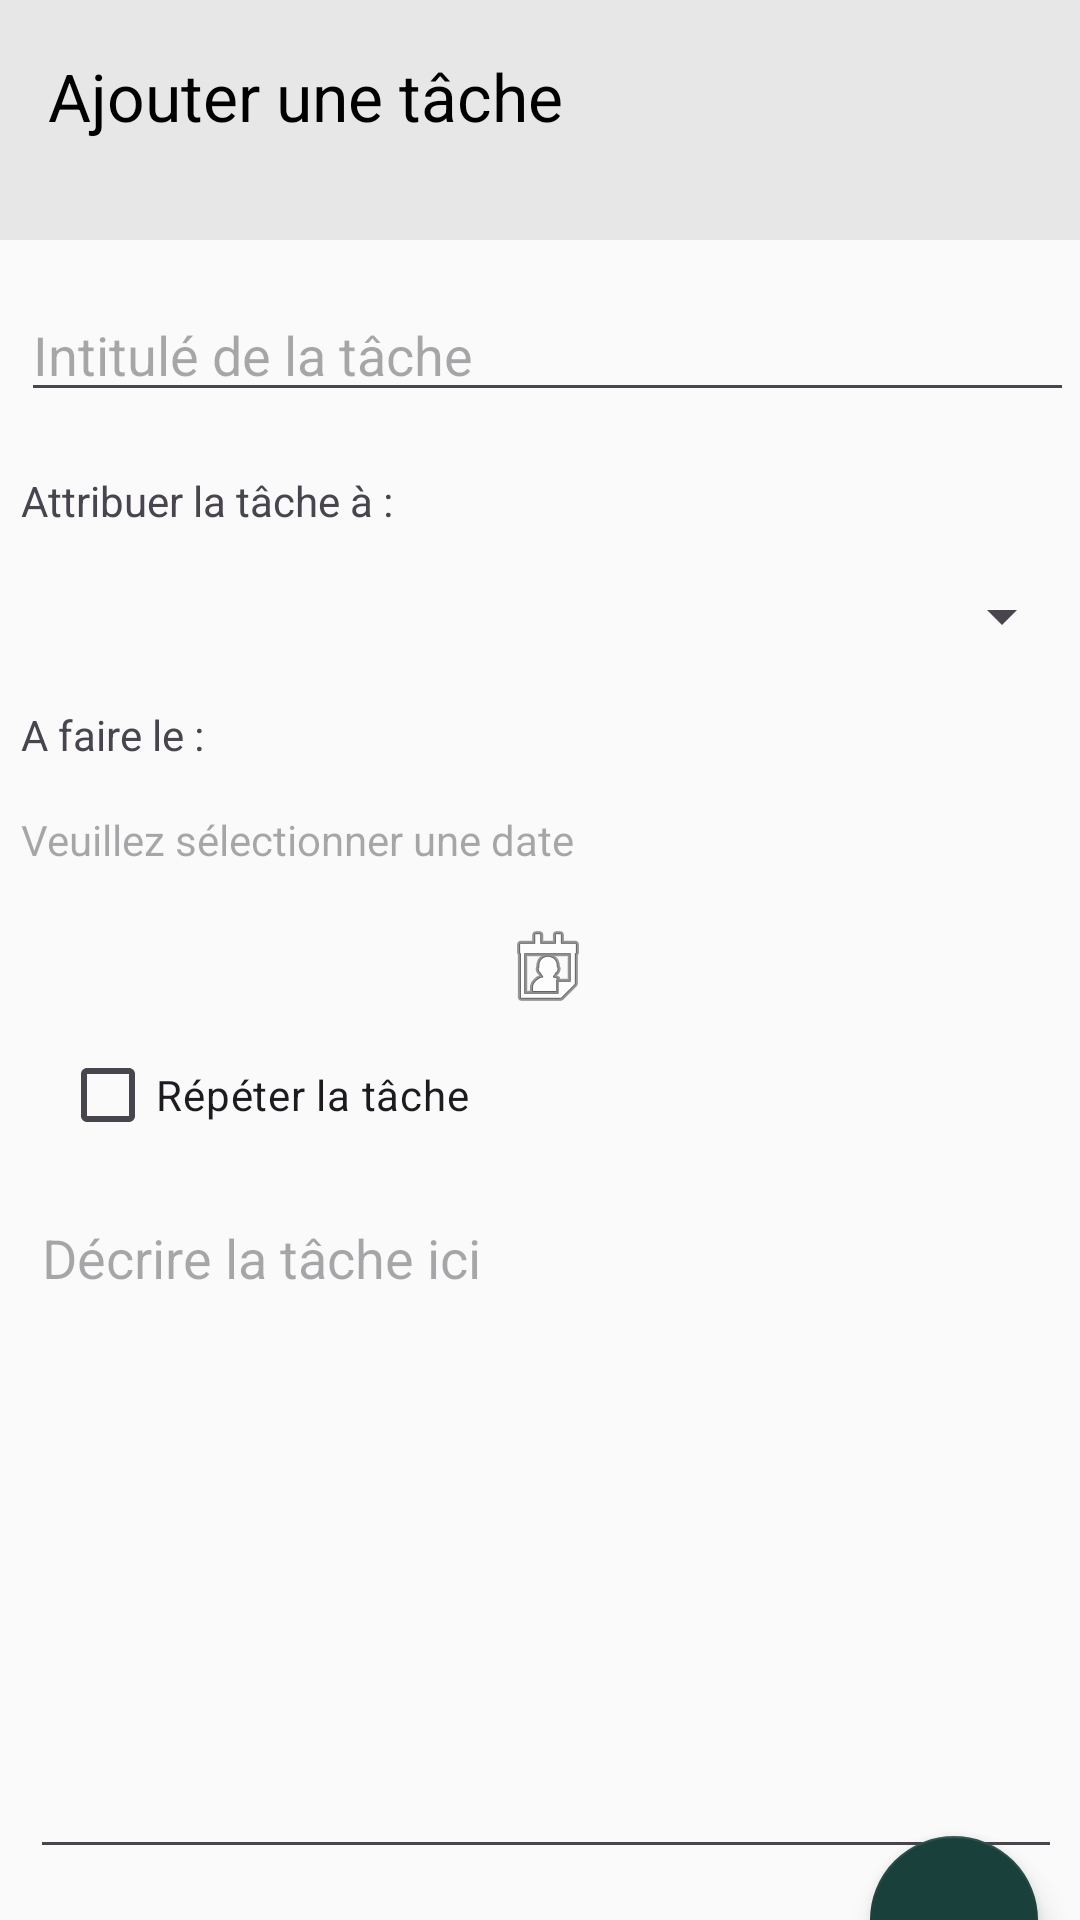

Icons on this 1080px×1920px Android screen, each with the point to tap as [x,y]:
calendar: [548,966]
